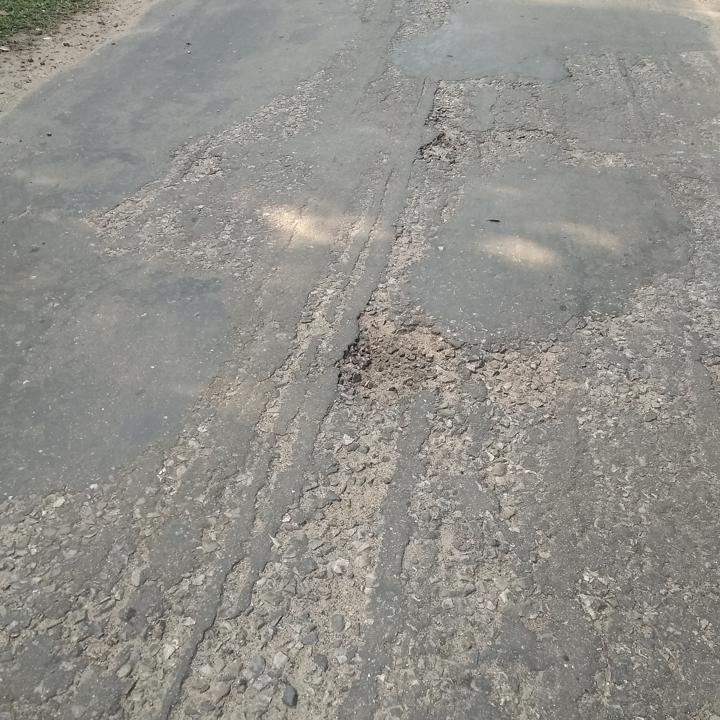pothole: (332, 313, 463, 400), (417, 131, 461, 169)
